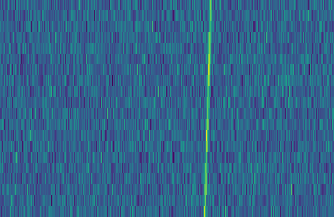signal: (200, 0, 215, 217)
